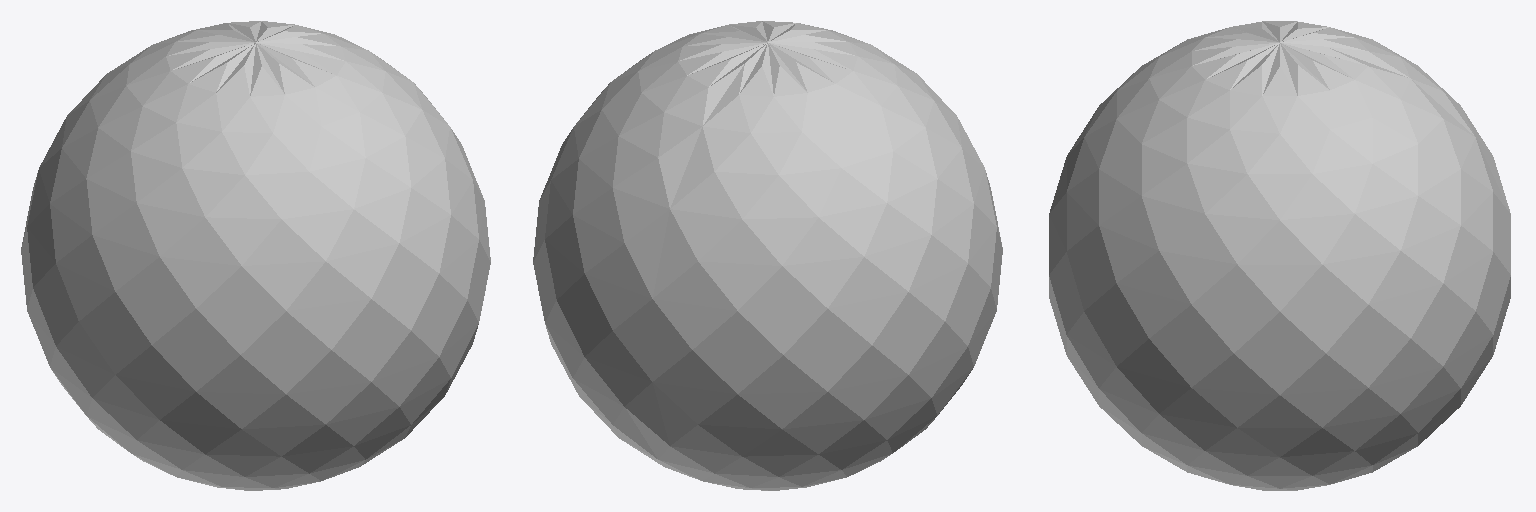
Rendered from sphere_decimated_1.obj.
The picture shows the model from 3 angles: view 1: azimuth 30°, elevation 25°; view 2: azimuth 150°, elevation 25°; view 3: azimuth 270°, elevation 25°; orthographic projection.
Parts seen in each view (by area): view 1: Sphere; view 2: Sphere; view 3: Sphere.
Part boxes in pixels (x1,y1,x2,y2): Sphere: (21,21,490,490); Sphere: (533,21,1002,490); Sphere: (1049,21,1510,490).
Size of the model in its own units: 1.96 by 2 by 1.96.